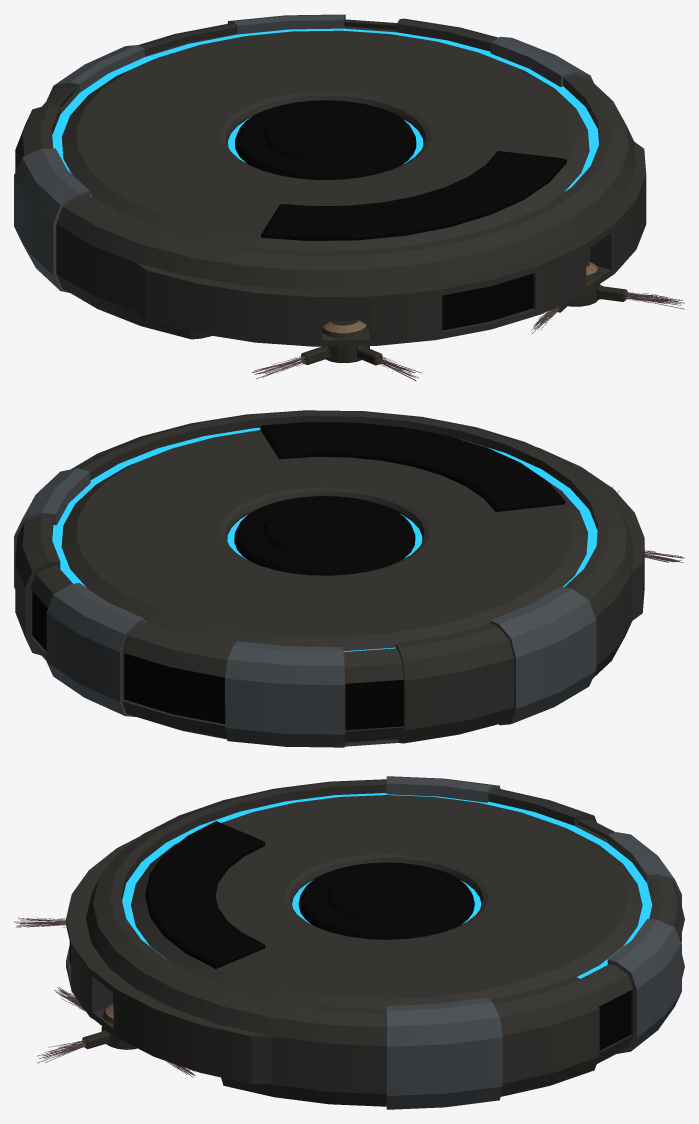
File: roomba_low_poly__vacuum_cleaner.glb
3 views of the same model, one above another, from view 1: azimuth 30°, elevation 25°; view 2: azimuth 150°, elevation 25°; view 3: azimuth 270°, elevation 25° (orthographic). The views are drawn at different scales.
Visible parts, largest first — view 1: body_0, Cylinder.001_7, Cylinder.003_509; view 2: body_0; view 3: body_0, Cylinder.003_509.
Part boxes in pixels (left/top/right/bottom): body_0: left=14, top=14, right=646, bottom=346; Cylinder.001_7: left=301, top=320, right=382, bottom=365; Cylinder.003_509: left=554, top=260, right=627, bottom=312; body_0: left=14, top=410, right=644, bottom=747; body_0: left=66, top=776, right=684, bottom=1109; Cylinder.003_509: left=82, top=1004, right=137, bottom=1049.
Size of the model in its own units: 2.02 by 0.4274 by 2.23.
